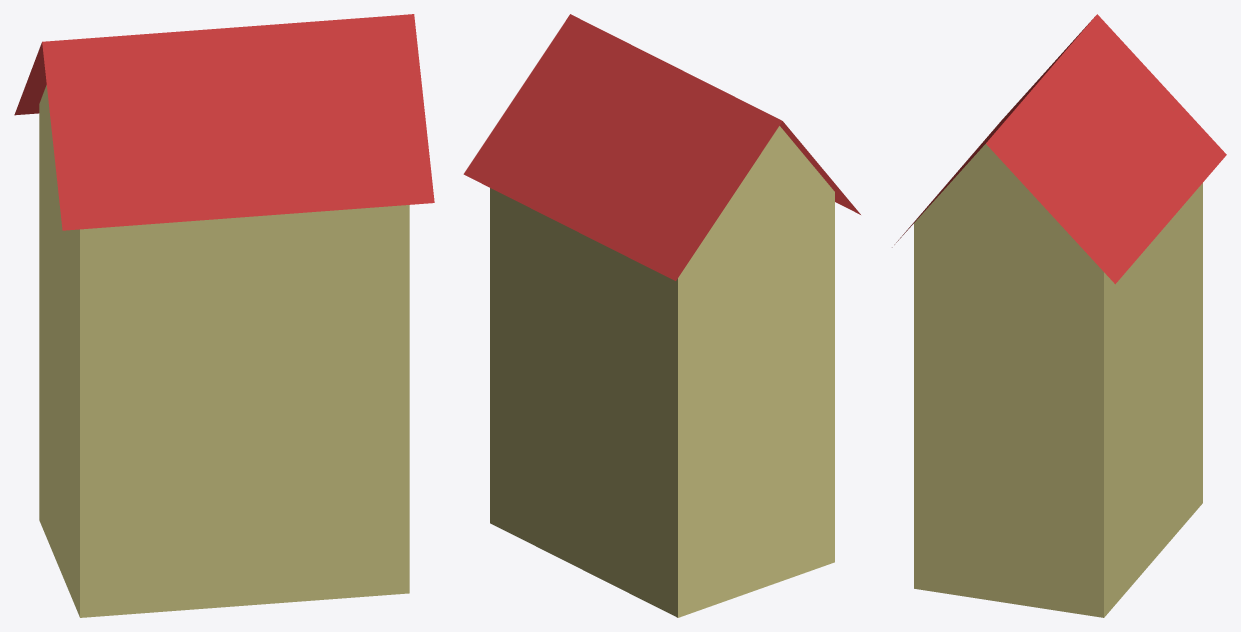
The picture shows the model from 3 angles, left to right: view 1: azimuth 30°, elevation 25°; view 2: azimuth 150°, elevation 25°; view 3: azimuth 270°, elevation 25°; orthographic projection. The views are drawn at different scales.
Size of the model in its own units: 5.19 by 4.5 by 6.84.
